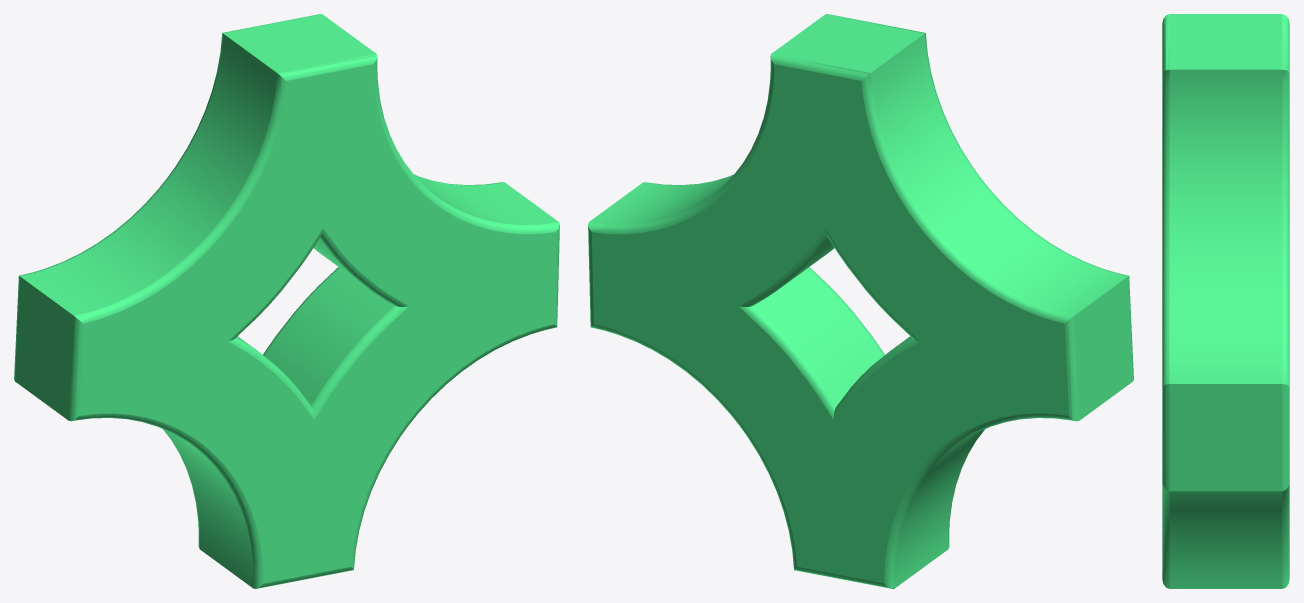
File: din-crest-g.gltf
3 renders of one model, left to right at view 1: azimuth 30°, elevation 25°; view 2: azimuth 150°, elevation 25°; view 3: azimuth 270°, elevation 25°, orthographic. The views are drawn at different scales.
Visible parts, largest first — view 1: star-g; view 2: star-g; view 3: star-g.
Part boxes in pixels (bbox=[...]): star-g: bbox=[14, 14, 559, 588]; star-g: bbox=[588, 14, 1133, 588]; star-g: bbox=[1162, 14, 1289, 588].
Bounding box in the file's own units: 1.57 × 1.58 × 0.34.
